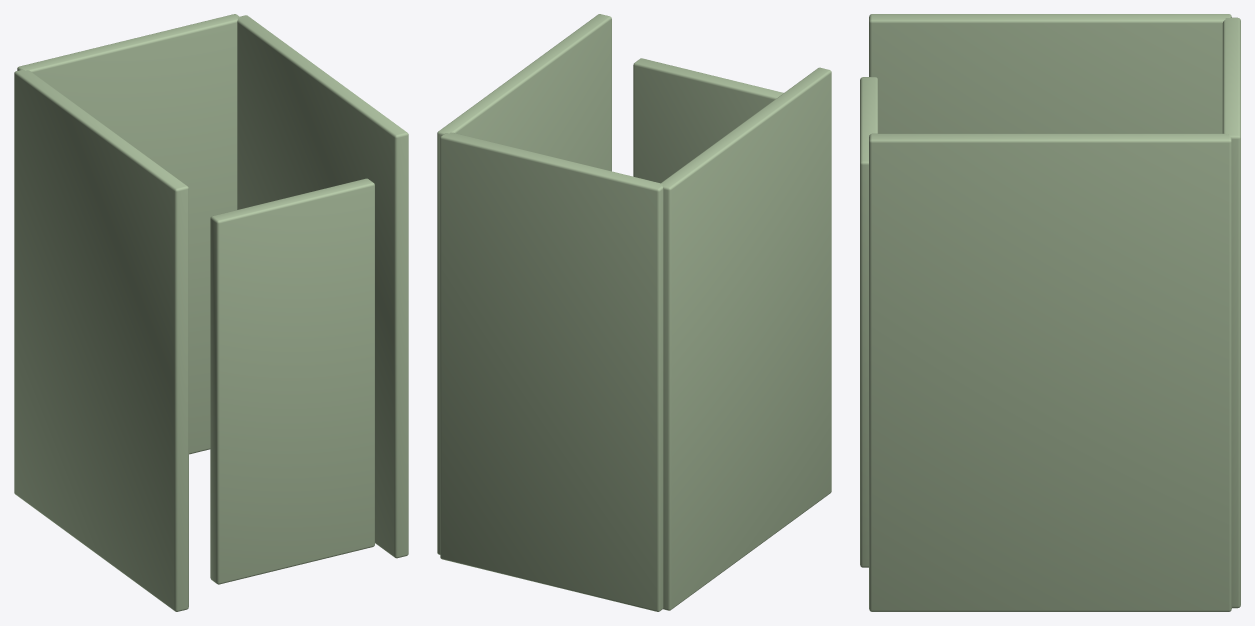
The model's file is restroom-stall.glb.
The picture shows the model from 3 angles, left to right: view 1: azimuth 30°, elevation 25°; view 2: azimuth 150°, elevation 25°; view 3: azimuth 270°, elevation 25°; orthographic projection. The views are drawn at different scales.
Visible parts, largest first — view 1: side.004, door.012, side.005, back.006; view 2: back.006, side.004, side.005, door.012; view 3: side.005, side.004, back.006, door.012.
Part boxes in pixels (<box>): side.004: <box>14,69,188,611</box>; door.012: <box>210,178,374,584</box>; side.005: <box>237,15,408,558</box>; back.006: <box>17,14,239,454</box>; back.006: <box>440,132,663,611</box>; side.004: <box>661,67,831,610</box>; side.005: <box>437,14,611,554</box>; door.012: <box>633,58,783,183</box>; side.005: <box>869,133,1231,611</box>; side.004: <box>869,14,1231,133</box>; back.006: <box>1222,17,1240,608</box>; door.012: <box>860,77,878,567</box>.
Size of the model in its own units: 1.33 by 2.3 by 1.68.
